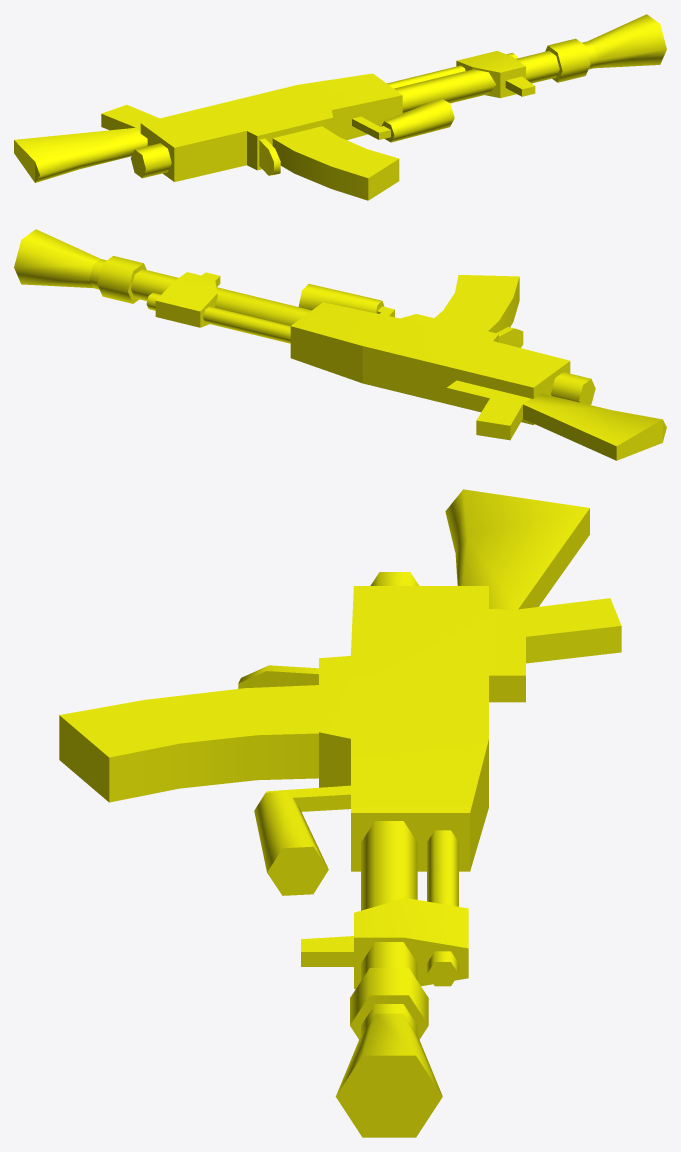
File: weapon_type99.glb
The picture shows the model from 3 angles, top to bottom: view 1: azimuth 30°, elevation 25°; view 2: azimuth 150°, elevation 25°; view 3: azimuth 270°, elevation 25°; orthographic projection. The views are drawn at different scales.
Visible parts, largest first — view 1: weapon_type99; view 2: weapon_type99; view 3: weapon_type99.
Part boxes in pixels (x1,y1,x2,y2): weapon_type99: [14, 14, 666, 200]; weapon_type99: [14, 229, 666, 460]; weapon_type99: [59, 489, 621, 1137].
Bounding box in the file's own units: 2.11 × 0.1376 × 0.8561.
Materials: 1 (1 with a texture image).
